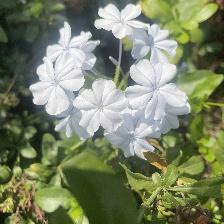chitrak: (127, 59, 183, 121), (76, 76, 130, 140), (29, 55, 85, 116), (44, 22, 93, 71), (96, 1, 139, 41)
